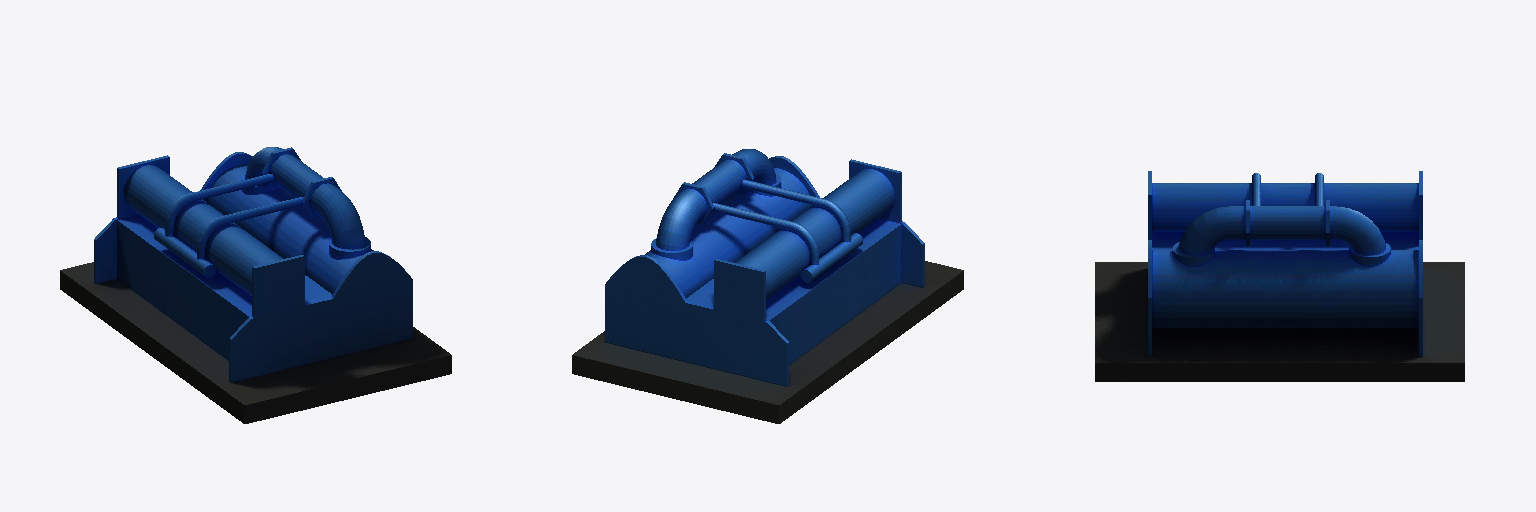
3 views of the same model, side by side, from view 1: azimuth 30°, elevation 25°; view 2: azimuth 150°, elevation 25°; view 3: azimuth 270°, elevation 25° (orthographic).
Visible parts, largest first — view 1: Cylinder10; view 2: Cylinder10; view 3: Cylinder10.
Part boxes in pixels (bbox=[...]): Cylinder10: bbox=[60, 147, 451, 423]; Cylinder10: bbox=[572, 149, 963, 423]; Cylinder10: bbox=[1095, 171, 1464, 381].
Bounding box in the file's own units: 240 × 167 × 371.
Materials: 1 (1 with a texture image).